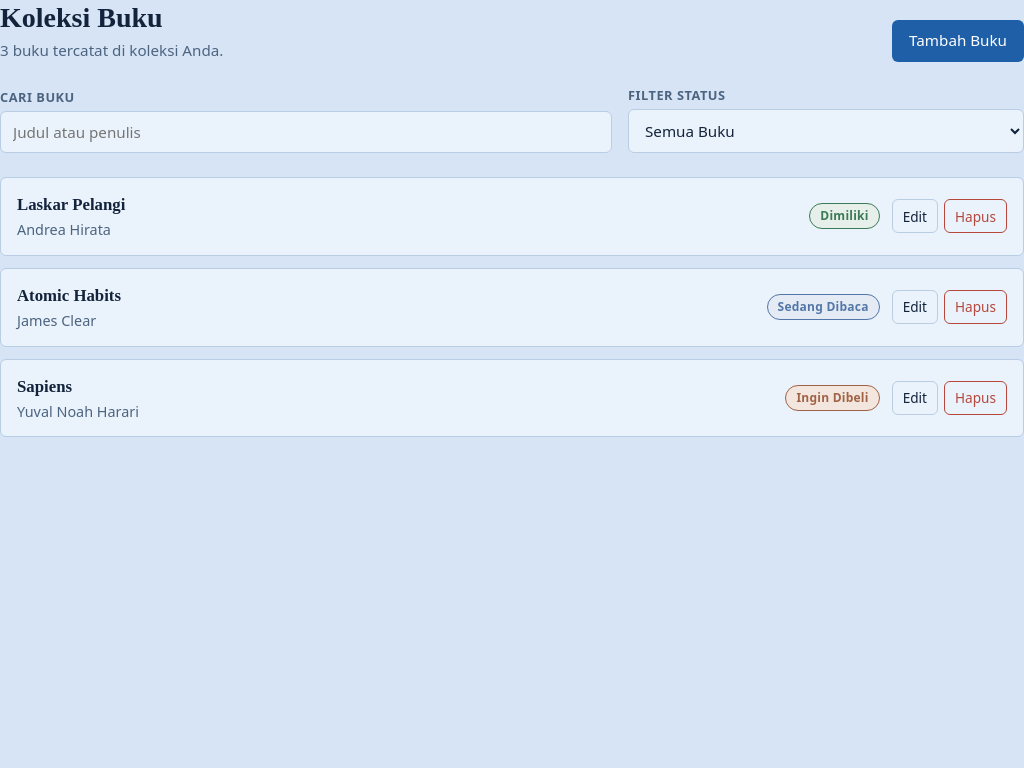
Test case: Home — pencarian, filter, dan edit/hapus › menghapus buku setelah konfirmasi
The width and height of the screenshot is (1024, 768).
# Buka dialog hapus pada buku pertama.
Click the button with aria-label "hapus laskar" at (976, 216), box [944,199,1007,233]
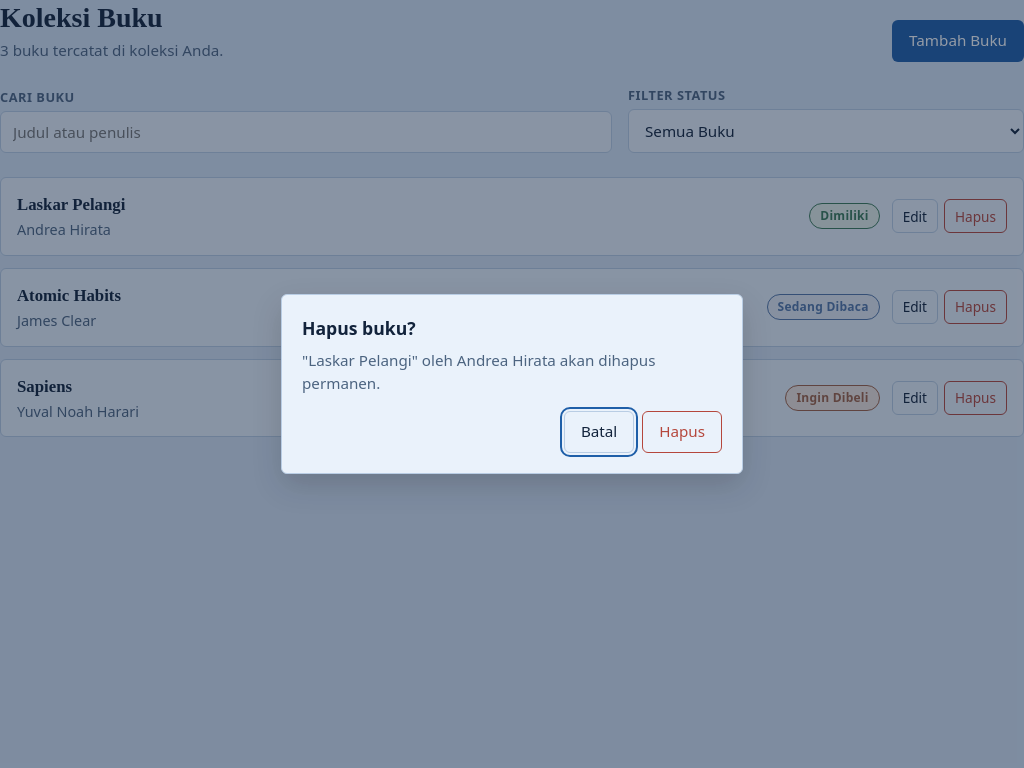
Click the button "Hapus" at (682, 432), box [642,411,722,453]
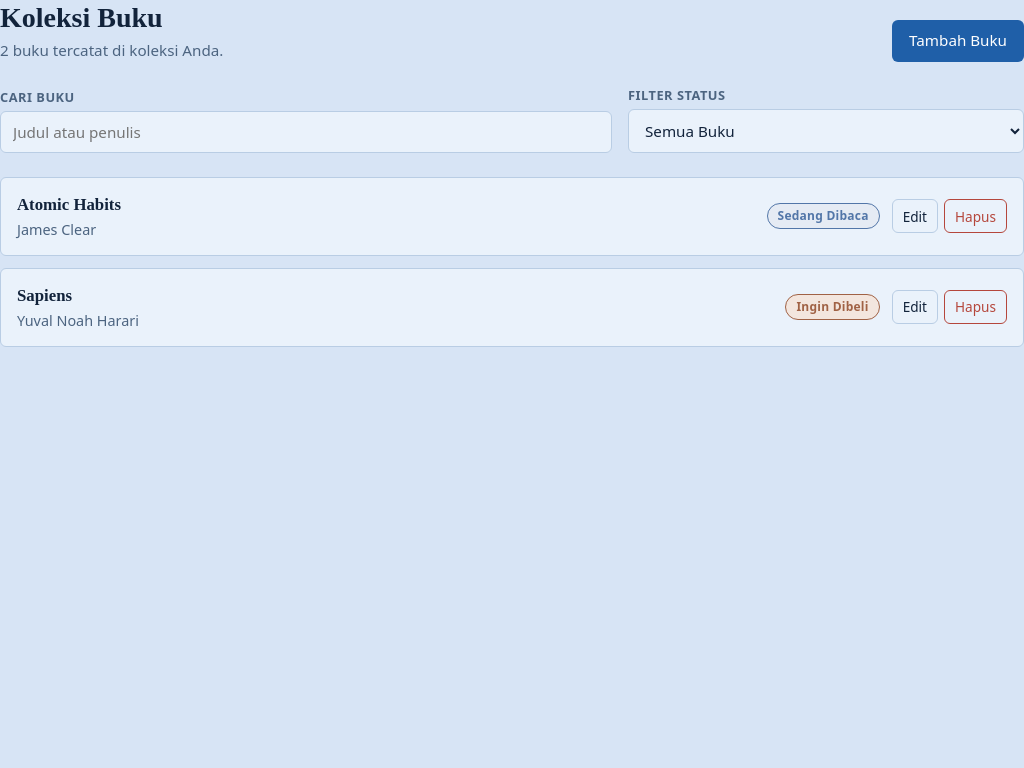
Expected: the heading "Atomic Habits" is shown, [17,195,121,214]
Expected: the heading "Laskar Pelangi" is gone
Expected: the text "Andrea Hirata" is gone
